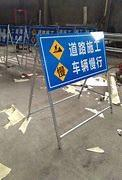sign: (40, 35, 111, 72)
